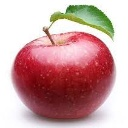apple: (12, 27, 118, 121)
